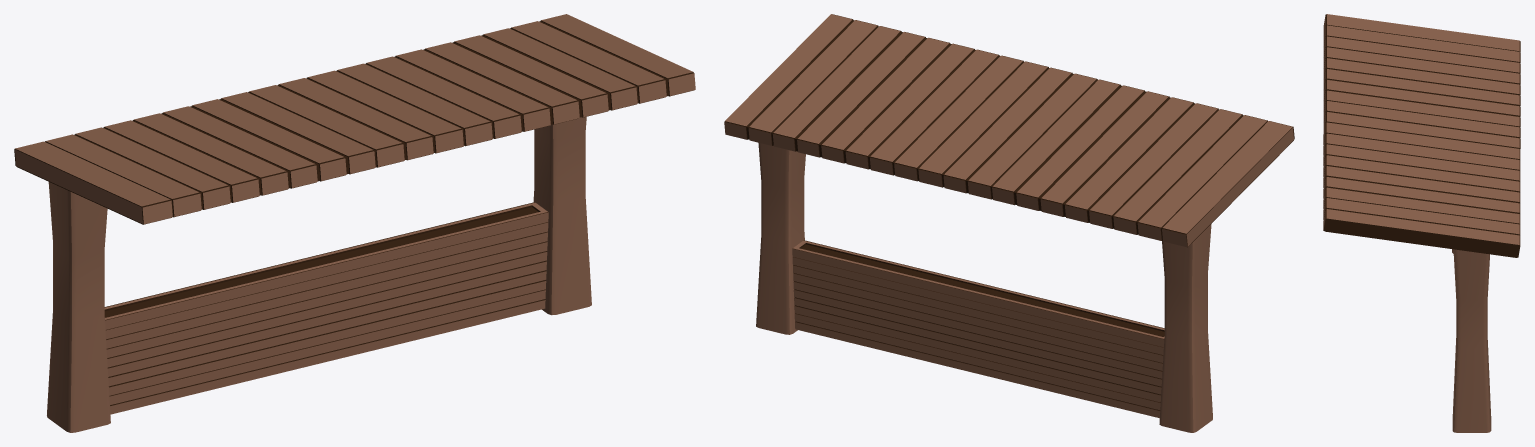
File: WoodenGazeeboWithPlantBox.fbx
3 views of the same model, side by side, from view 1: azimuth 30°, elevation 25°; view 2: azimuth 150°, elevation 25°; view 3: azimuth 270°, elevation 25° (orthographic). The views are drawn at different scales.
Parts seen in each view (by area): view 1: front1; view 2: front1; view 3: front1.
Boxes of the visible parts, left/top/right/bottom form: front1: left=14, top=14, right=695, bottom=432; front1: left=724, top=14, right=1294, bottom=432; front1: left=1323, top=14, right=1520, bottom=432.
Size of the model in its own units: 374 by 188 by 152.
